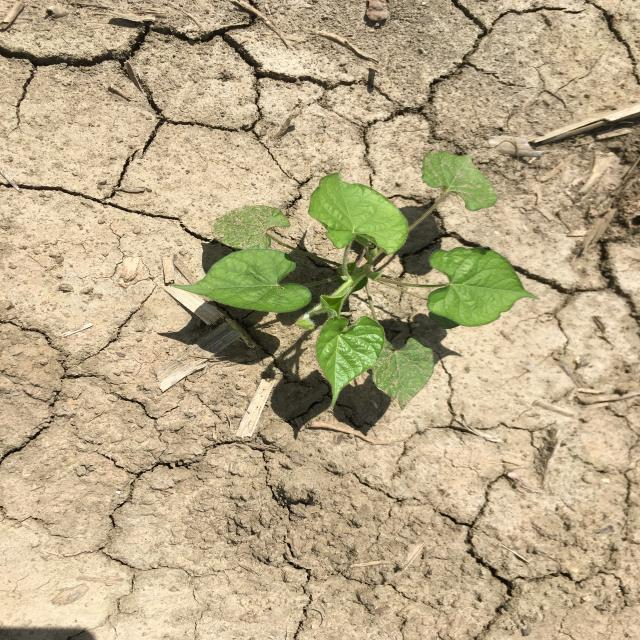MorningGlory: (169, 149, 540, 411)
